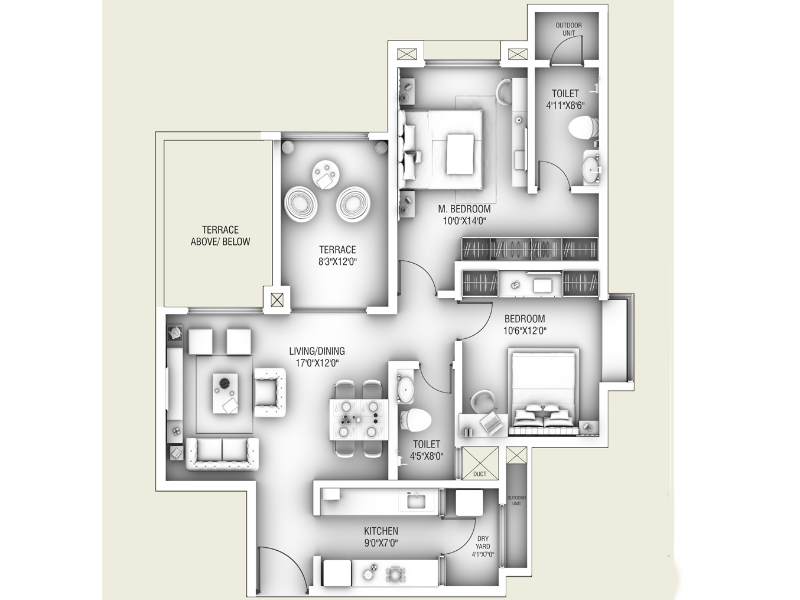door: (257, 543, 306, 588), (462, 299, 498, 338), (443, 515, 479, 554), (417, 367, 453, 406), (398, 258, 433, 289), (537, 155, 570, 184), (552, 30, 585, 59)
room: (143, 303, 402, 489), (452, 259, 644, 450), (245, 480, 506, 600), (269, 127, 402, 319), (387, 38, 539, 198), (525, 58, 610, 198), (526, 3, 611, 71)
